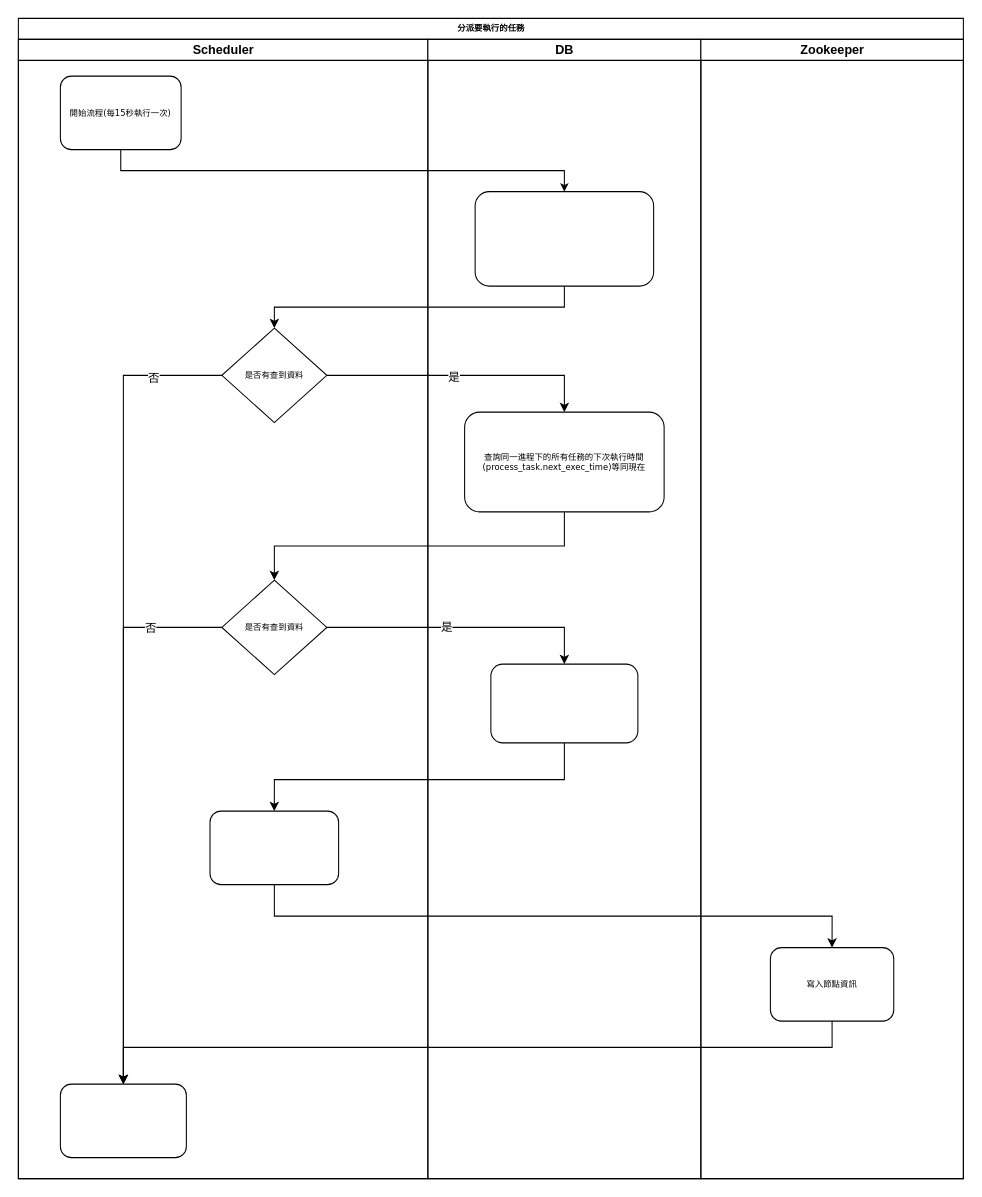
This 982x1197 diagram has some shape labels left out. Each missing label, with the centre of its shape:
建立進程紀錄(process_record): (x=564, y=703)
查詢進程已啟用(process.is_enable) 且進程的下次執行時間(process.next_exec_time)等同現在: (x=564, y=238)
組裝任務資料（task_node, task_loading, pre_task_nodes): (x=274, y=847)
結束流程: (x=122, y=1120)
